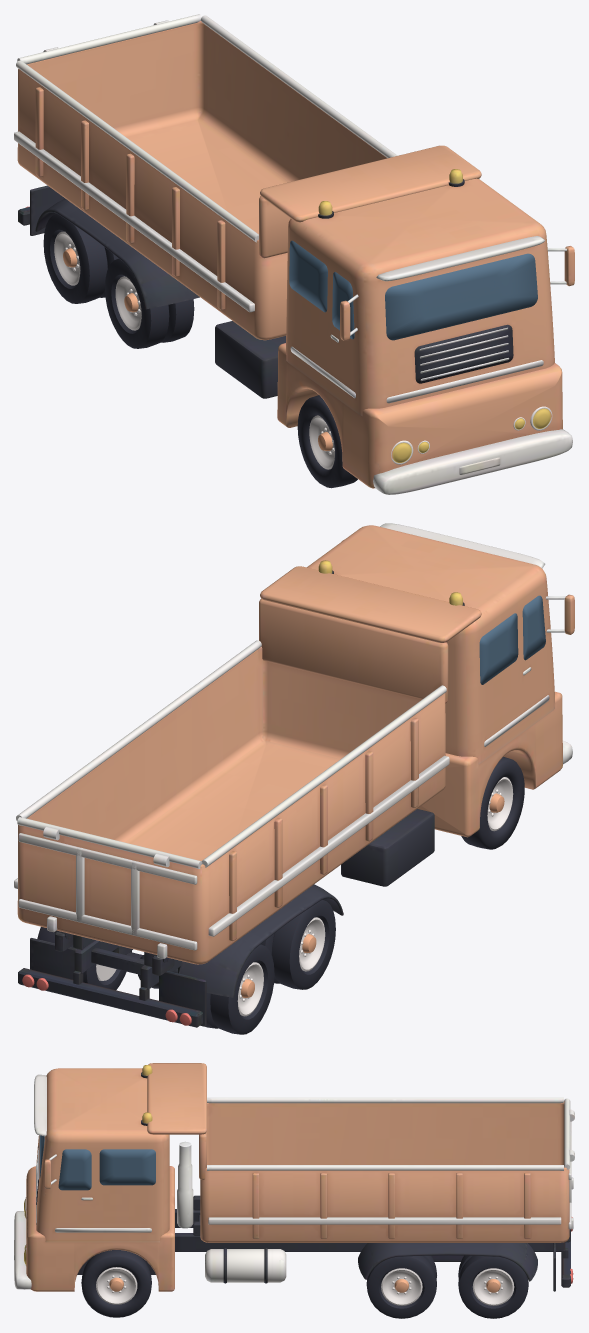
The model's file is dump-truck.glb.
3 renders of one model, top to bottom at view 1: azimuth 30°, elevation 25°; view 2: azimuth 150°, elevation 25°; view 3: azimuth 270°, elevation 25°, orthographic. The views are drawn at different scales.
Parts seen in each view (by area): view 1: dump-truck_tipper, dump-truck_body, dump-truck_windows, dump-truck_wheel_r1r, dump-truck_wheel_r2r, dump-truck_wheel_fr, dump-truck_headlights; view 2: dump-truck_tipper, dump-truck_body, dump-truck_wheel_r1r, dump-truck_wheel_r2r, dump-truck_wheel_fr, dump-truck_windows, dump-truck_wheel_r2l; view 3: dump-truck_tipper, dump-truck_body, dump-truck_wheel_fl, dump-truck_wheel_r2l, dump-truck_wheel_r1l, dump-truck_windows.
Part boxes in pixels (bbox=[...]): dump-truck_tipper: bbox=[14, 14, 481, 340]; dump-truck_body: bbox=[18, 169, 574, 494]; dump-truck_windows: bbox=[289, 240, 537, 340]; dump-truck_wheel_r1r: bbox=[105, 258, 194, 348]; dump-truck_wheel_r2r: bbox=[43, 214, 118, 303]; dump-truck_wheel_fr: bbox=[297, 395, 357, 488]; dump-truck_headlights: bbox=[391, 406, 552, 464]; dump-truck_tipper: bbox=[14, 566, 481, 964]; dump-truck_body: bbox=[18, 523, 574, 1027]; dump-truck_wheel_r1r: bbox=[261, 899, 335, 989]; dump-truck_wheel_r2r: bbox=[205, 944, 274, 1034]; dump-truck_wheel_fr: bbox=[461, 756, 524, 849]; dump-truck_windows: bbox=[479, 595, 545, 684]; dump-truck_wheel_r2l: bbox=[83, 951, 131, 990]; dump-truck_tipper: bbox=[147, 1063, 574, 1242]; dump-truck_body: bbox=[14, 1065, 570, 1291]; dump-truck_wheel_fl: bbox=[81, 1250, 151, 1317]; dump-truck_wheel_r2l: bbox=[458, 1255, 528, 1318]; dump-truck_wheel_r1l: bbox=[366, 1255, 436, 1318]; dump-truck_windows: bbox=[39, 1135, 155, 1190].
Size of the model in its own units: 2.95 by 3.2 by 8.26.
3 materials, 3 textured.
